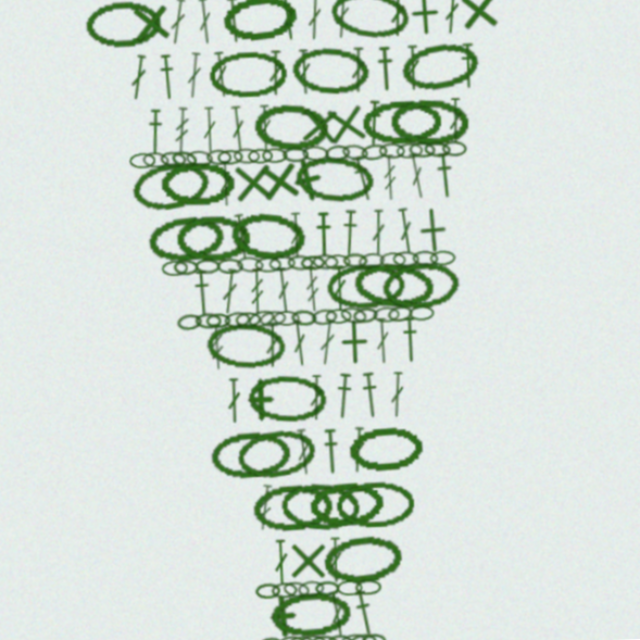chain: (343, 30, 422, 84), (155, 181, 232, 233), (407, 81, 484, 133), (356, 281, 433, 332), (243, 432, 320, 482), (306, 182, 383, 232), (244, 231, 319, 282), (307, 82, 382, 131), (319, 533, 394, 581), (282, 483, 357, 531), (219, 333, 294, 381), (169, 233, 243, 281), (256, 383, 331, 430), (270, 133, 343, 181), (245, 33, 318, 80), (383, 284, 457, 330), (396, 134, 470, 180), (270, 584, 344, 629), (257, 485, 331, 529), (220, 435, 294, 479), (309, 484, 380, 529), (333, 285, 406, 328), (347, 435, 418, 479), (371, 136, 444, 178), (232, 86, 305, 128), (183, 185, 254, 228), (120, 35, 191, 78), (334, 486, 406, 528), (196, 235, 266, 278), (259, 323, 285, 342), (344, 323, 370, 342), (282, 574, 308, 592), (351, 174, 377, 192), (194, 174, 219, 192), (251, 274, 276, 291), (332, 624, 358, 640), (388, 324, 412, 341), (297, 624, 322, 640), (270, 325, 295, 341), (363, 275, 388, 291), (168, 175, 193, 191), (184, 175, 209, 191), (208, 175, 233, 191), (369, 175, 394, 191), (427, 175, 452, 191), (194, 325, 218, 341), (299, 325, 323, 341), (318, 325, 342, 341), (356, 325, 380, 341), (307, 625, 332, 640), (342, 625, 367, 640), (296, 575, 321, 590), (315, 175, 340, 190), (413, 175, 438, 190), (257, 625, 281, 640), (276, 625, 300, 640), (322, 625, 346, 640), (211, 325, 235, 340), (238, 325, 262, 340), (281, 275, 305, 290), (298, 275, 322, 290), (321, 275, 345, 290), (395, 275, 419, 290), (413, 275, 437, 290), (252, 175, 276, 190), (336, 175, 360, 190), (386, 175, 410, 190), (193, 275, 216, 290), (213, 275, 236, 290), (349, 275, 372, 290), (227, 175, 250, 190), (444, 175, 467, 190), (286, 626, 310, 640), (272, 576, 296, 590), (332, 576, 356, 590), (349, 576, 373, 590), (248, 326, 272, 340), (283, 326, 307, 340), (331, 326, 355, 340), (375, 326, 399, 340), (182, 276, 206, 290), (233, 276, 257, 290), (268, 276, 292, 290), (332, 276, 356, 290), (383, 276, 407, 290), (429, 276, 453, 290), (156, 176, 180, 190), (237, 176, 261, 190), (278, 176, 302, 190), (297, 176, 321, 190), (402, 176, 426, 190), (353, 626, 376, 640), (257, 576, 280, 590), (312, 576, 335, 590), (221, 326, 244, 340), (408, 326, 431, 340), (310, 276, 333, 290), (265, 176, 288, 190)
double: (157, 85, 178, 128), (195, 35, 216, 78), (322, 335, 342, 378), (234, 285, 254, 328), (410, 185, 430, 228), (322, 585, 341, 628), (209, 85, 228, 128), (248, 235, 266, 278), (399, 235, 417, 278), (298, 35, 316, 78), (348, 35, 366, 78), (449, 35, 467, 78), (298, 435, 315, 478), (348, 435, 365, 478), (298, 335, 315, 378), (235, 85, 252, 128), (386, 386, 403, 428), (285, 286, 302, 328), (222, 36, 239, 78), (323, 36, 340, 78), (312, 386, 328, 428), (249, 136, 265, 178), (400, 36, 416, 78), (274, 336, 289, 378), (375, 236, 390, 278), (450, 136, 465, 178), (286, 86, 301, 128), (362, 86, 377, 128), (275, 536, 289, 578), (325, 536, 339, 578), (237, 386, 251, 428), (376, 336, 390, 378), (338, 286, 352, 328), (300, 236, 314, 278), (237, 186, 251, 228), (224, 136, 238, 178), (275, 136, 289, 178), (313, 86, 327, 128), (413, 86, 427, 128)
half_double: (358, 185, 382, 229), (345, 585, 368, 629), (335, 385, 355, 428), (360, 385, 379, 428), (347, 235, 366, 278), (373, 135, 392, 178), (437, 186, 455, 228), (172, 136, 190, 178), (185, 86, 203, 128), (248, 36, 266, 78), (323, 436, 340, 478), (210, 286, 227, 328), (386, 86, 403, 128), (400, 336, 416, 378), (324, 236, 340, 278), (463, 86, 479, 128)
noise: (615, 565, 635, 585), (628, 440, 640, 453), (0, 104, 11, 117)
single: (295, 182, 344, 231), (270, 183, 317, 230), (333, 133, 380, 180), (309, 134, 355, 180), (158, 34, 203, 79), (460, 34, 505, 79), (260, 585, 304, 629), (411, 235, 455, 279), (247, 185, 291, 229), (285, 535, 328, 578), (411, 35, 454, 78), (248, 386, 290, 428), (336, 336, 378, 378)
treble: (259, 485, 279, 528), (197, 135, 214, 178), (312, 286, 328, 328), (223, 336, 238, 378), (262, 286, 276, 328), (388, 186, 402, 228)
